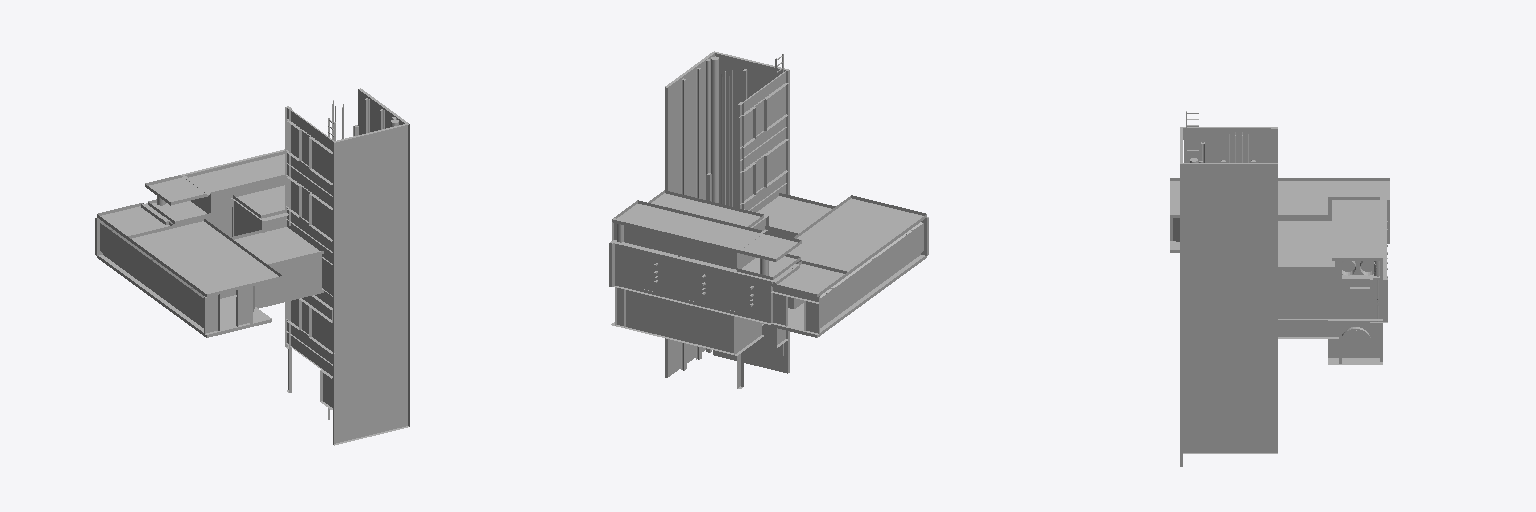
File: HC_room2_shaft.obj
The picture shows the model from 3 angles: view 1: azimuth 30°, elevation 25°; view 2: azimuth 150°, elevation 25°; view 3: azimuth 270°, elevation 25°; orthographic projection.
Visible parts, largest first — view 1: room2shaft_opt; view 2: room2shaft_opt; view 3: room2shaft_opt.
Part boxes in pixels (left/top/right/bottom): room2shaft_opt: left=95, top=88, right=409, bottom=445; room2shaft_opt: left=609, top=51, right=928, bottom=388; room2shaft_opt: left=1170, top=111, right=1389, bottom=466.
Size of the model in its own units: 22.72 by 32.79 by 20.48.